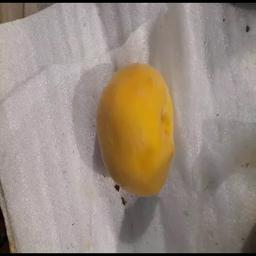Peach Semifresh: (81, 52, 195, 198)
